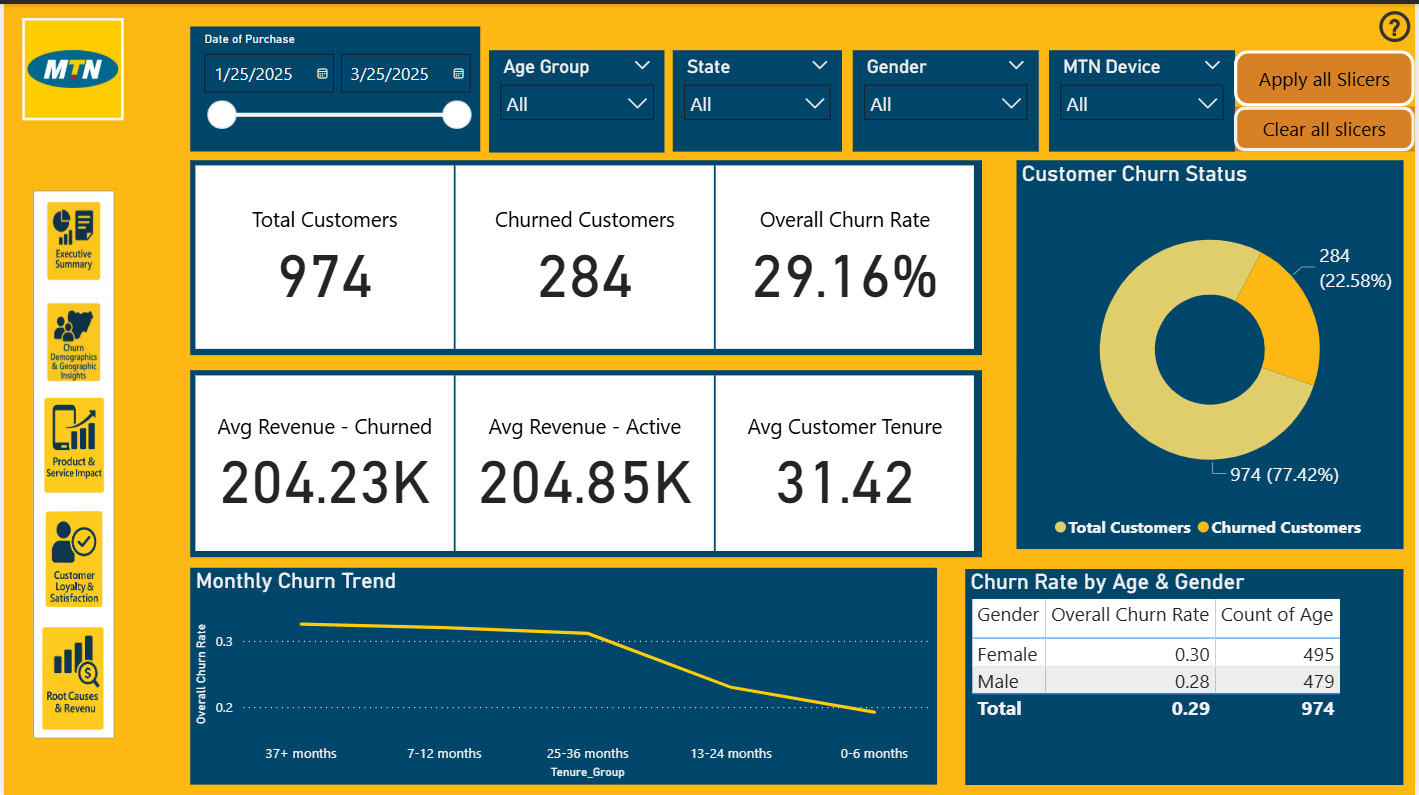

This screenshot's page, from the dashboard's own definition file:
{"tool":"powerbi","page":{"name":"Executive Summary & Overall Performance","canvas":[1280,720],"ordinal":0},"visuals":[{"type":"cardVisual","fields":{"Data":["MTN Nigeria Customer Churn.Total Customers","MTN Nigeria Customer Churn.Churned Customers","MTN Nigeria Customer Churn.Overall Churn Rate"]},"box":[168.6,141.9,718.6,176.7],"z":0},{"type":"donutChart","title":"Customer Churn Status","fields":{"Y":["MTN Nigeria Customer Churn.Total Customers","MTN Nigeria Customer Churn.Churned Customers"]},"box":[918.3,141.5,351.2,352.4],"z":1000},{"type":"lineChart","title":"Monthly Churn Trend","fields":{"Y":["MTN Nigeria Customer Churn.Overall Churn Rate"],"Category":["MTN Nigeria Customer Churn.Tenure_Group"]},"box":[168.6,511.6,677.9,196.5],"z":2000},{"type":"cardVisual","fields":{"Data":["MTN Nigeria Customer Churn.Avg Total Revenue - Churned","MTN Nigeria Customer Churn.Avg Total Revenue - Non-Churned","MTN Nigeria Customer Churn.Average Customer Tenure (Overall)"]},"box":[168.6,332.6,718.6,169.8],"z":3000},{"type":"tableEx","title":"Churn Rate by Age & Gender","fields":{"Values":["MTN Nigeria Customer Churn.Gender","MTN Nigeria Customer Churn.Overall Churn Rate","CountNonNull(MTN Nigeria Customer Churn.Age)"]},"box":[872,512.2,397.6,196.3],"z":4000},{"type":"slicer","fields":{"Values":["MTN Nigeria Customer Churn.Date of Purchase"]},"box":[168.6,20.9,262.8,112.8],"z":5000},{"type":"actionButton","box":[1242.7,0,37.8,41.5],"z":12000},{"type":"shape","box":[25.6,168.6,74.4,497.7],"z":13000},{"type":"image","box":[25.6,168.6,74.4,91.9],"z":14000},{"type":"image","box":[25.6,260.5,74.4,91.9],"z":15000},{"type":"image","box":[25.6,448.8,74.4,111.6],"z":16000},{"type":"image","box":[9.3,554.7,105.8,111.6],"z":17000},{"type":"image","box":[25.6,348.8,74.4,100],"z":18000},{"type":"image","box":[10.5,8.1,104.7,102.3],"z":19000},{"type":"slicer","fields":{"Values":["MTN Nigeria Customer Churn.State"]},"box":[607,41.9,153.5,91.9],"z":20000},{"type":"slicer","fields":{"Values":["MTN Nigeria Customer Churn.Age Group"]},"box":[439.5,41.9,159.3,93],"z":21000},{"type":"slicer","fields":{"Values":["MTN Nigeria Customer Churn.Gender"]},"box":[769.8,41.9,168.6,91.9],"z":22000},{"type":"slicer","fields":{"Values":["MTN Nigeria Customer Churn.MTN Device"]},"box":[947.7,41.9,168.6,91.9],"z":23000},{"type":"actionButton","box":[1116.3,93,164,40.7],"z":24000},{"type":"shape","box":[1116.3,41.9,164,51.2],"z":25000}]}

Visuals, with their boxes in screenshot pixels (x1, y1, x2, y2), scaled from the page's 1280x720 canvas onto the 1419x795 screenshot:
cardVisual - MTN Nigeria Customer Churn.Total Customers x MTN Nigeria Customer Churn.Churned Customers: {"x1": 187, "y1": 157, "x2": 984, "y2": 352}
"Customer Churn Status" donutChart: {"x1": 1018, "y1": 156, "x2": 1407, "y2": 545}
"Monthly Churn Trend" lineChart: {"x1": 187, "y1": 565, "x2": 938, "y2": 782}
cardVisual - MTN Nigeria Customer Churn.Avg Total Revenue - Churned x MTN Nigeria Customer Churn.Avg Total Revenue - Non-Churned: {"x1": 187, "y1": 367, "x2": 984, "y2": 555}
"Churn Rate by Age & Gender" tableEx: {"x1": 967, "y1": 566, "x2": 1407, "y2": 782}
slicer - MTN Nigeria Customer Churn.Date of Purchase: {"x1": 187, "y1": 23, "x2": 478, "y2": 148}
actionButton: {"x1": 1378, "y1": 0, "x2": 1418, "y2": 46}
shape: {"x1": 28, "y1": 186, "x2": 111, "y2": 736}
image: {"x1": 28, "y1": 186, "x2": 111, "y2": 288}
image: {"x1": 28, "y1": 288, "x2": 111, "y2": 389}
image: {"x1": 28, "y1": 496, "x2": 111, "y2": 619}
image: {"x1": 10, "y1": 612, "x2": 128, "y2": 736}
image: {"x1": 28, "y1": 385, "x2": 111, "y2": 496}
image: {"x1": 12, "y1": 9, "x2": 128, "y2": 122}
slicer - MTN Nigeria Customer Churn.State: {"x1": 673, "y1": 46, "x2": 843, "y2": 148}
slicer - MTN Nigeria Customer Churn.Age Group: {"x1": 487, "y1": 46, "x2": 664, "y2": 149}
slicer - MTN Nigeria Customer Churn.Gender: {"x1": 853, "y1": 46, "x2": 1040, "y2": 148}
slicer - MTN Nigeria Customer Churn.MTN Device: {"x1": 1051, "y1": 46, "x2": 1238, "y2": 148}
actionButton: {"x1": 1238, "y1": 103, "x2": 1418, "y2": 148}
shape: {"x1": 1238, "y1": 46, "x2": 1418, "y2": 103}
